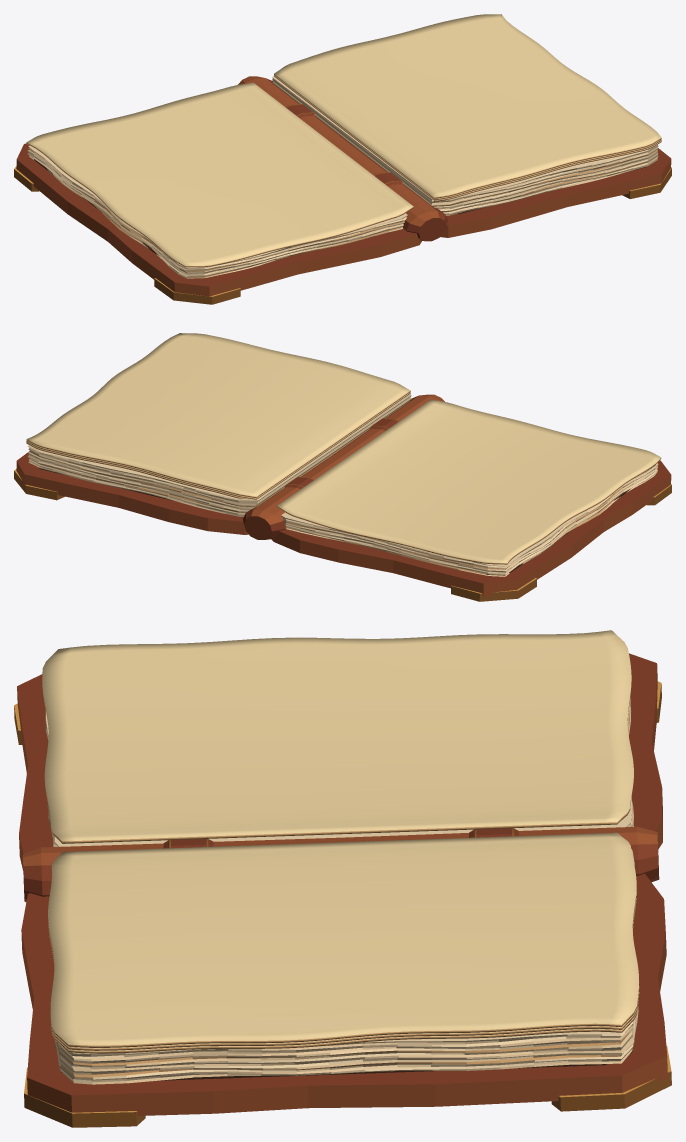
The model's file is Book_Run.fbx.
The picture shows the model from 3 angles, top to bottom: view 1: azimuth 30°, elevation 25°; view 2: azimuth 150°, elevation 25°; view 3: azimuth 270°, elevation 25°; orthographic projection. The views are drawn at different scales.
Parts seen in each view (by area): view 1: Левый форзац · пергамент.003, Лист А · пергамент.003, Кожа · крышка.006, Срез пергамента · справа.003, Кожа · крышка.007, Срез пергамента · слева.003, Гранёный корешок.003, Лист Б · пергамент.003, Латунный уголок.013, Правый форзац · пергамент.003; view 2: Лист А · пергамент.003, Левый форзац · пергамент.003, Кожа · крышка.006, Срез пергамента · справа.003, Кожа · крышка.007, Срез пергамента · слева.003, Гранёный корешок.003, Лист Б · пергамент.003, Латунный уголок.012, Правый форзац · пергамент.003, Латунный уголок.014; view 3: Лист А · пергамент.003, Левый форзац · пергамент.003, Кожа · крышка.007, Срез пергамента · справа.003, Кожа · крышка.006, Гранёный корешок.003, Срез пергамента · слева.003, Лист Б · пергамент.003, Правый форзац · пергамент.003, Латунный уголок.014, Латунный уголок.015.
Part boxes in pixels (x1=…): Левый форзац · пергамент.003: x1=26, y1=82, x2=413, y2=267; Лист А · пергамент.003: x1=274, y1=14, x2=661, y2=198; Кожа · крышка.006: x1=16, y1=143, x2=421, y2=296; Срез пергамента · справа.003: x1=272, y1=76, x2=658, y2=215; Кожа · крышка.007: x1=440, y1=148, x2=671, y2=237; Срез пергамента · слева.003: x1=27, y1=145, x2=407, y2=278; Гранёный корешок.003: x1=238, y1=76, x2=447, y2=241; Лист Б · пергамент.003: x1=274, y1=75, x2=661, y2=200; Латунный уголок.013: x1=154, y1=278, x2=240, y2=304; Правый форзац · пергамент.003: x1=433, y1=141, x2=661, y2=201; Лист А · пергамент.003: x1=26, y1=333, x2=410, y2=498; Левый форзац · пергамент.003: x1=277, y1=399, x2=661, y2=564; Кожа · крышка.006: x1=271, y1=460, x2=671, y2=596; Срез пергамента · справа.003: x1=27, y1=394, x2=411, y2=516; Кожа · крышка.007: x1=16, y1=451, x2=248, y2=534; Срез пергамента · слева.003: x1=281, y1=463, x2=658, y2=576; Гранёный корешок.003: x1=243, y1=394, x2=444, y2=539; Лист Б · пергамент.003: x1=26, y1=392, x2=410, y2=499; Латунный уголок.012: x1=451, y1=578, x2=536, y2=601; Правый форзац · пергамент.003: x1=26, y1=394, x2=410, y2=499; Латунный уголок.014: x1=14, y1=469, x2=64, y2=500; Лист А · пергамент.003: x1=48, y1=832, x2=639, y2=1047; Левый форзац · пергамент.003: x1=42, y1=630, x2=633, y2=843; Кожа · крышка.007: x1=21, y1=873, x2=667, y2=1115; Срез пергамента · справа.003: x1=51, y1=849, x2=638, y2=1084; Кожа · крышка.006: x1=17, y1=653, x2=662, y2=870; Гранёный корешок.003: x1=23, y1=826, x2=659, y2=901; Срез пергамента · слева.003: x1=45, y1=697, x2=633, y2=846; Лист Б · пергамент.003: x1=48, y1=869, x2=639, y2=1050; Правый форзац · пергамент.003: x1=48, y1=891, x2=639, y2=1053; Латунный уголок.014: x1=551, y1=1045, x2=671, y2=1111; Латунный уголок.015: x1=24, y1=1068, x2=145, y2=1127.
Bounding box in the file's own units: 5.62 × 0.5911 × 3.6.
